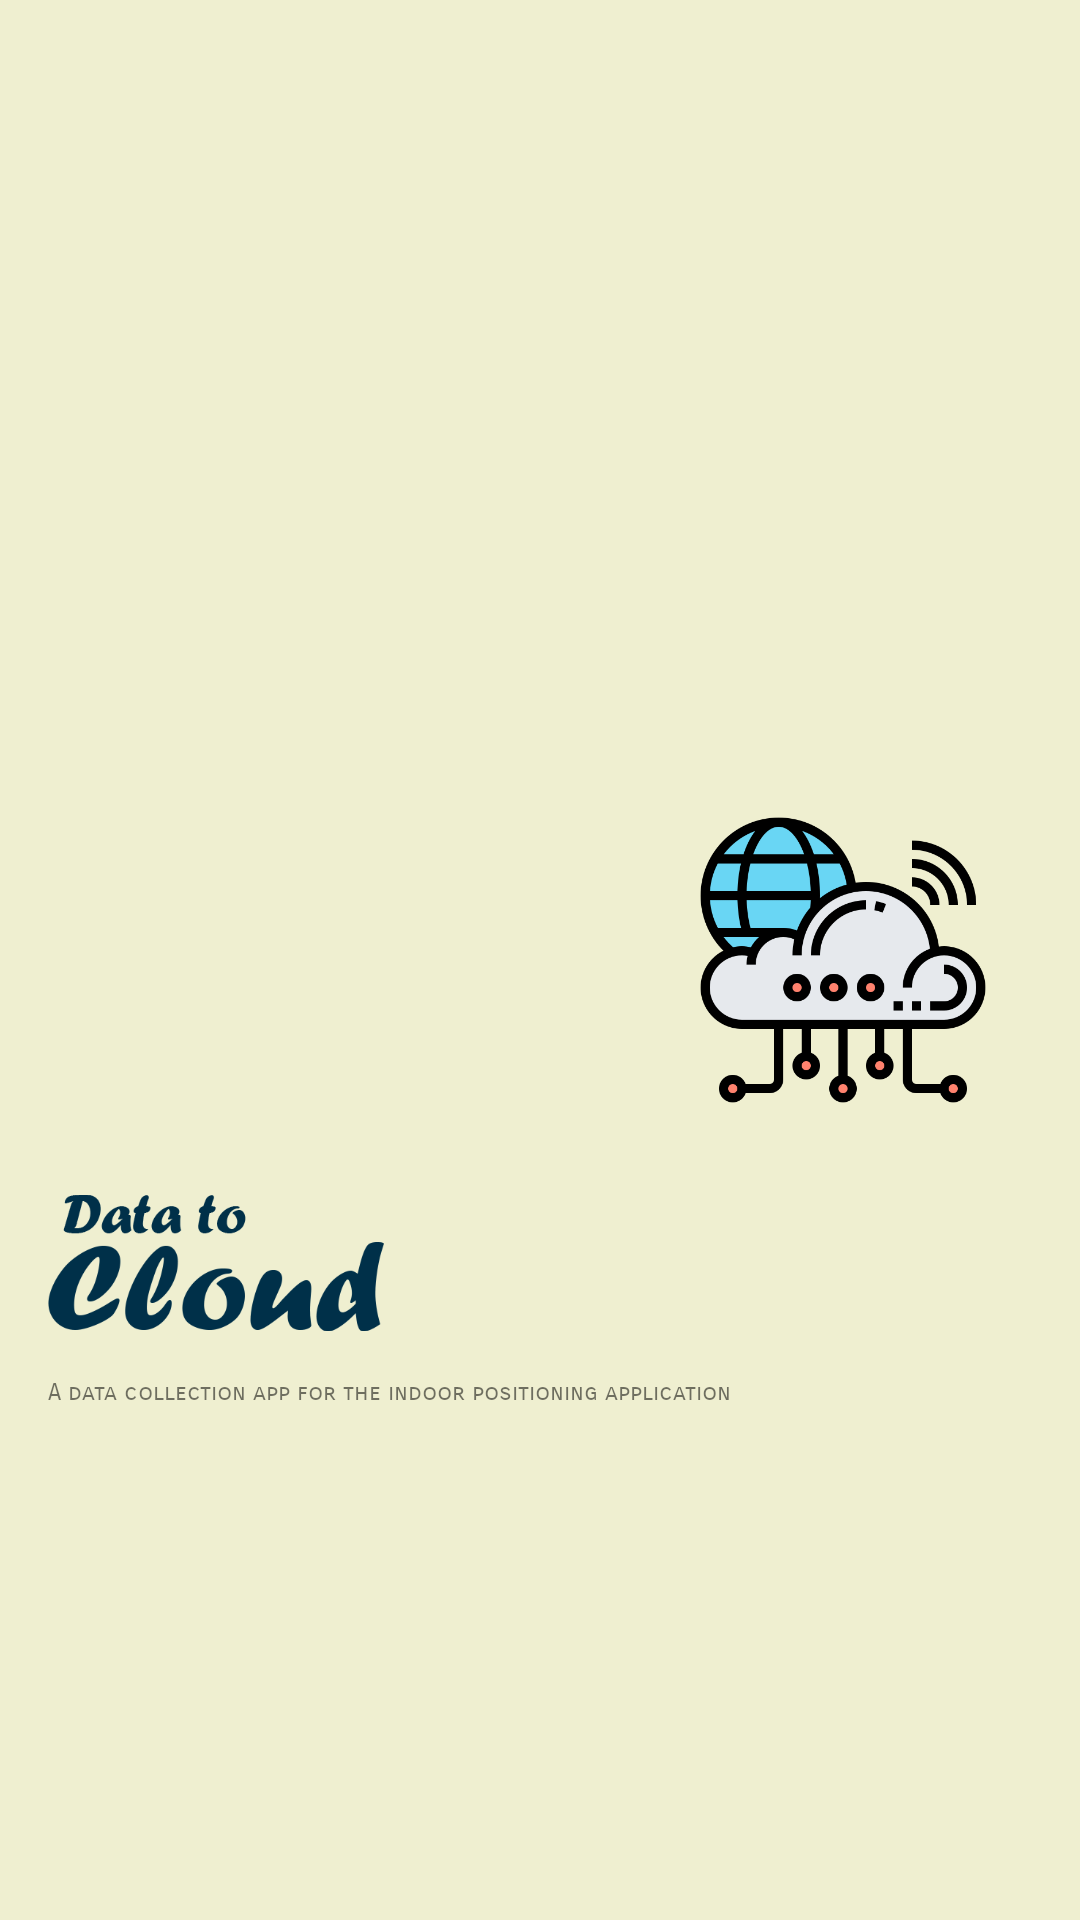

Named icons in this screenshot (1080x1920) and their centers, point (x, y):
cloud network: point (843, 960)
